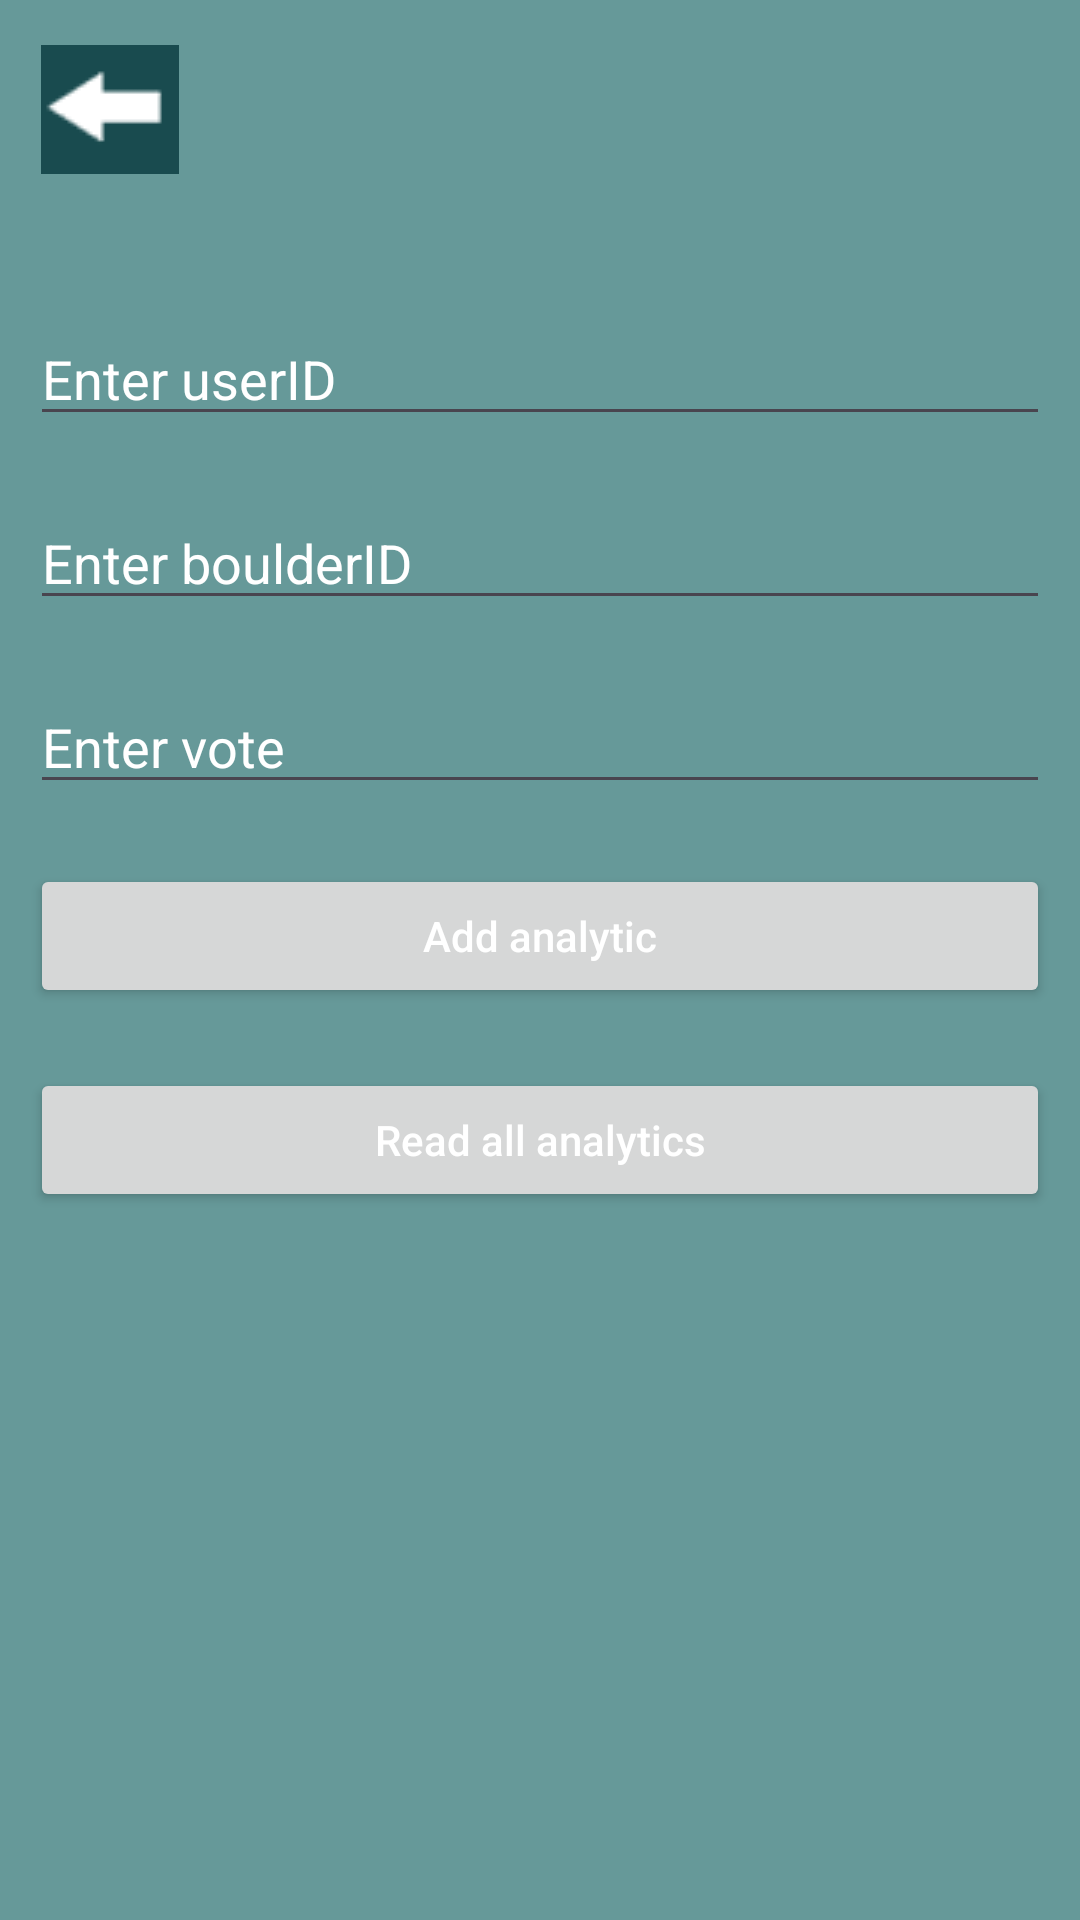

Where to tap for icons on this 1080 × 1920 app screen, as (x,y):
go back: (110,109)
